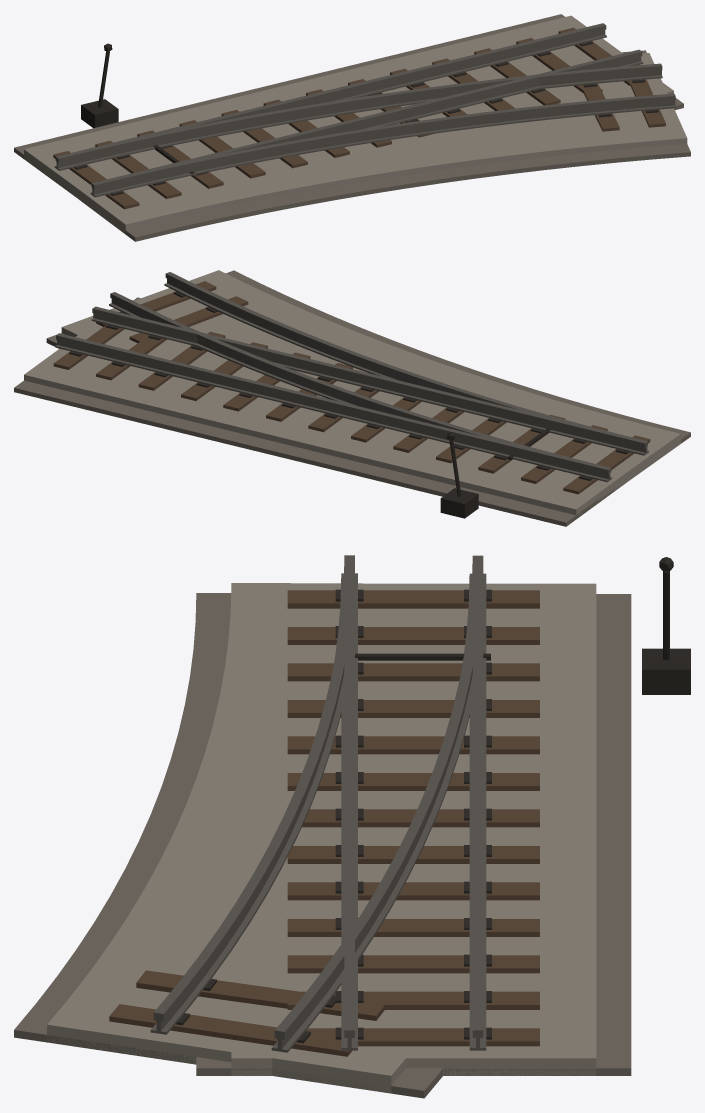
File: rieles-riel-desvio-der.glb
The picture shows the model from 3 angles, top to bottom: view 1: azimuth 30°, elevation 25°; view 2: azimuth 150°, elevation 25°; view 3: azimuth 270°, elevation 25°; orthographic projection. The views are drawn at different scales.
Visible parts, largest first — view 1: riel_desvio_der_Balasto, riel_desvio_der_Riel, riel_desvio_der_BalastoHombro, riel_desvio_der_Durmiente, riel_desvio_der_Hierro, riel_desvio_der_PlacaApoyo; view 2: riel_desvio_der_Balasto, riel_desvio_der_Riel, riel_desvio_der_BalastoHombro, riel_desvio_der_Durmiente, riel_desvio_der_Hierro, riel_desvio_der_PlacaApoyo; view 3: riel_desvio_der_Balasto, riel_desvio_der_Durmiente, riel_desvio_der_BalastoHombro, riel_desvio_der_Riel, riel_desvio_der_Hierro, riel_desvio_der_PlacaApoyo.
Boxes of the visible parts, x1,y1,x2,y2 form: riel_desvio_der_Balasto: (24,15,687,234); riel_desvio_der_Riel: (54,23,675,197); riel_desvio_der_BalastoHombro: (14,14,690,241); riel_desvio_der_Durmiente: (53,27,665,209); riel_desvio_der_Hierro: (81,43,194,173); riel_desvio_der_PlacaApoyo: (74,41,658,195); riel_desvio_der_Balasto: (24,270,680,514); riel_desvio_der_Riel: (55,272,648,482); riel_desvio_der_BalastoHombro: (14,270,690,526); riel_desvio_der_Durmiente: (53,281,650,494); riel_desvio_der_Hierro: (440,428,550,518); riel_desvio_der_PlacaApoyo: (69,291,629,480); riel_desvio_der_Balasto: (47,583,596,1093); riel_desvio_der_Durmiente: (109,590,539,1056); riel_desvio_der_BalastoHombro: (14,593,631,1098); riel_desvio_der_Riel: (150,555,486,1052); riel_desvio_der_Hierro: (355,557,690,694); riel_desvio_der_PlacaApoyo: (156,589,491,1043).
Bounding box in the file's own units: 8.4 × 1.06 × 4.82.
